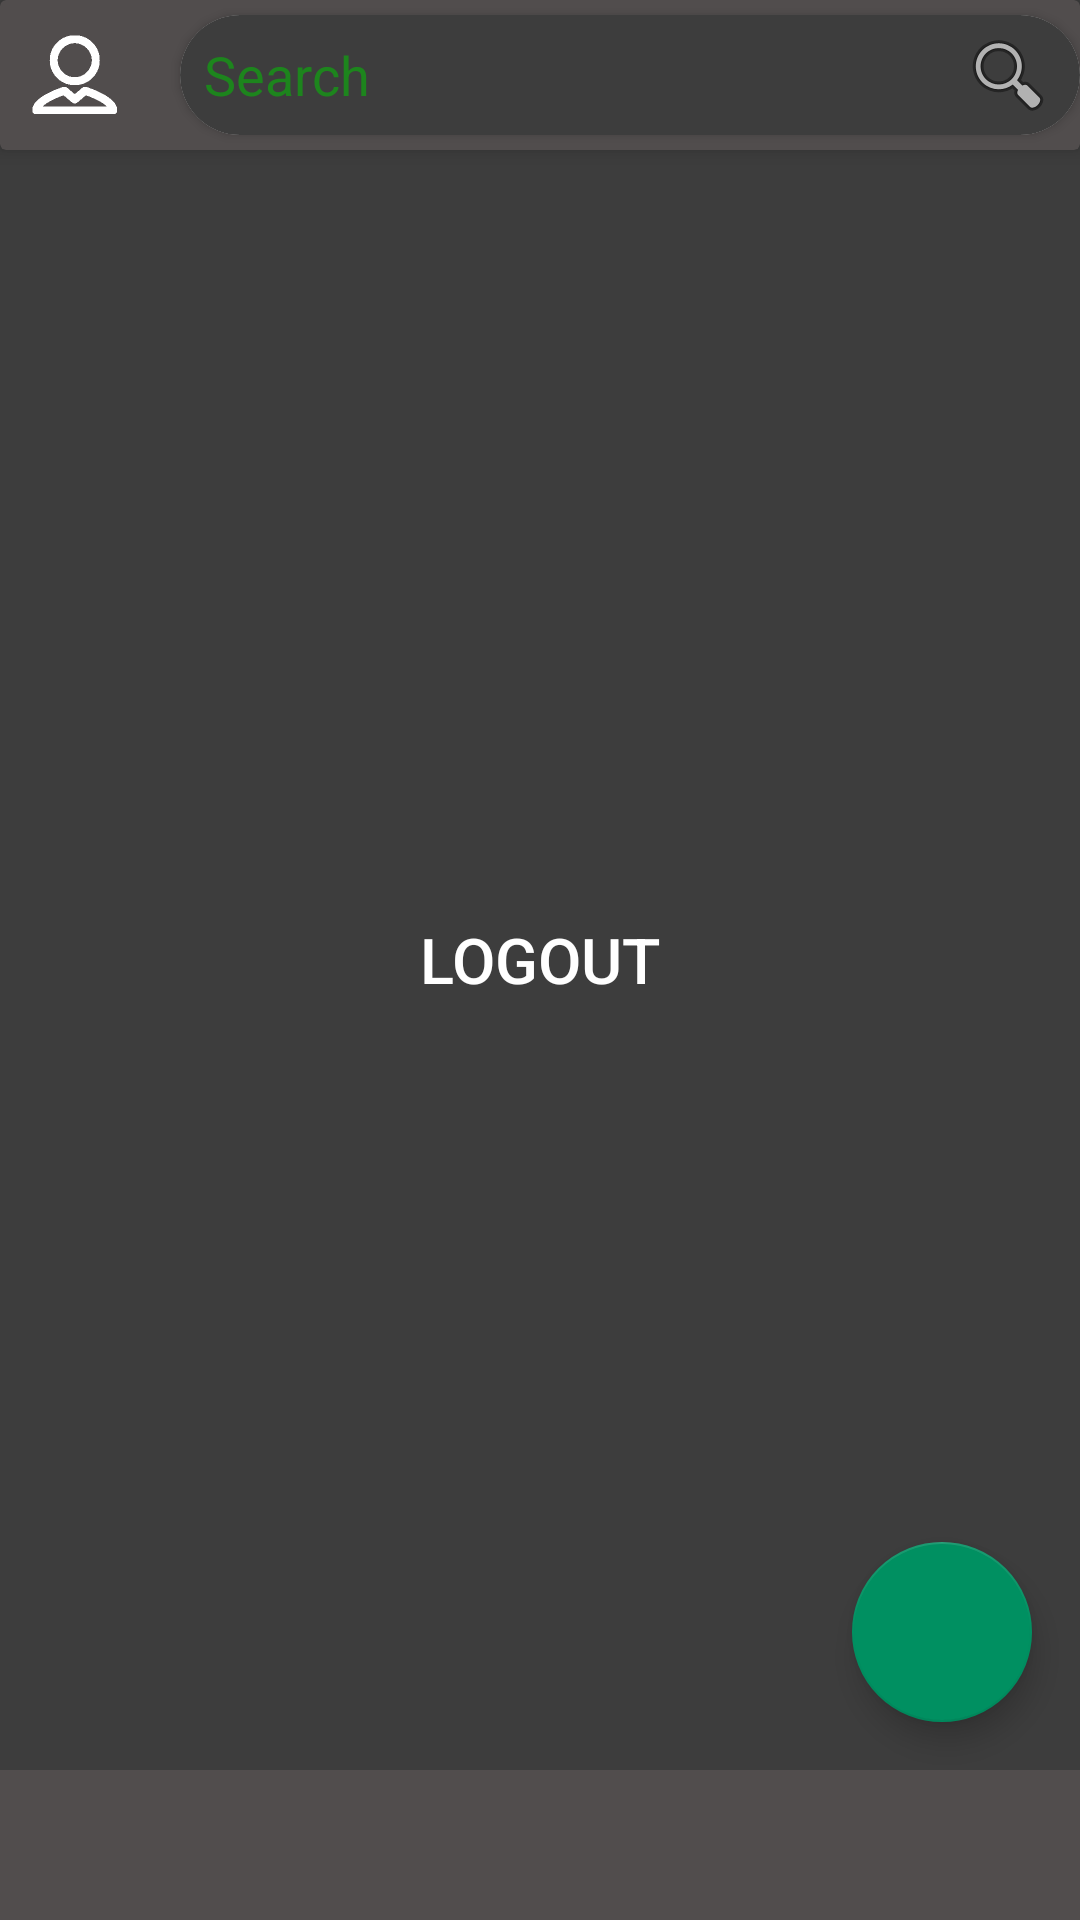

Icon bounding boxes for this 1080 x 1920 phone screenshot, format (x1, y1, x2, y2):
Profile Picture: (0, 0, 117, 114)
